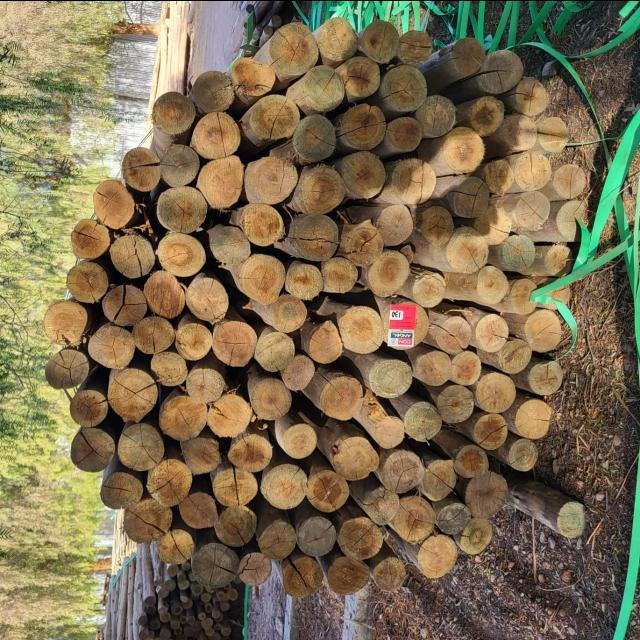package: (44, 19, 592, 592), (134, 559, 252, 640)
